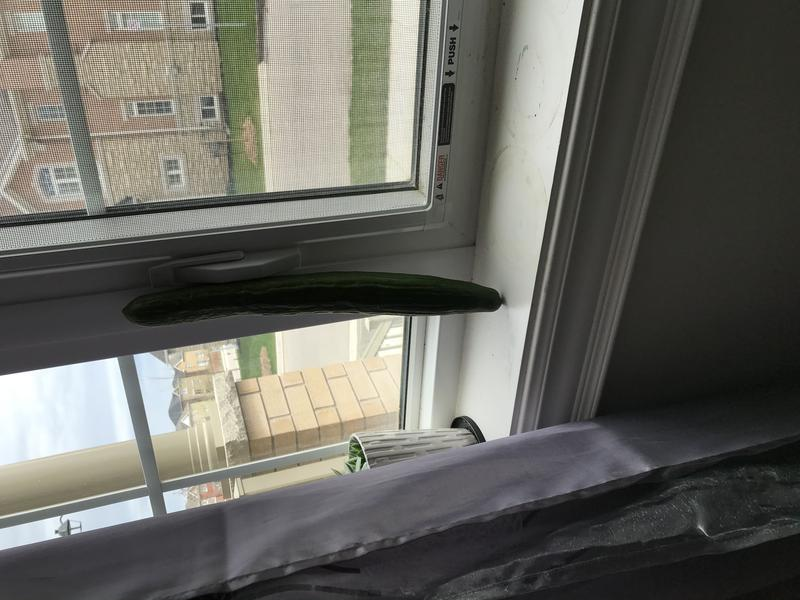cucumber: (117, 268, 513, 331)
